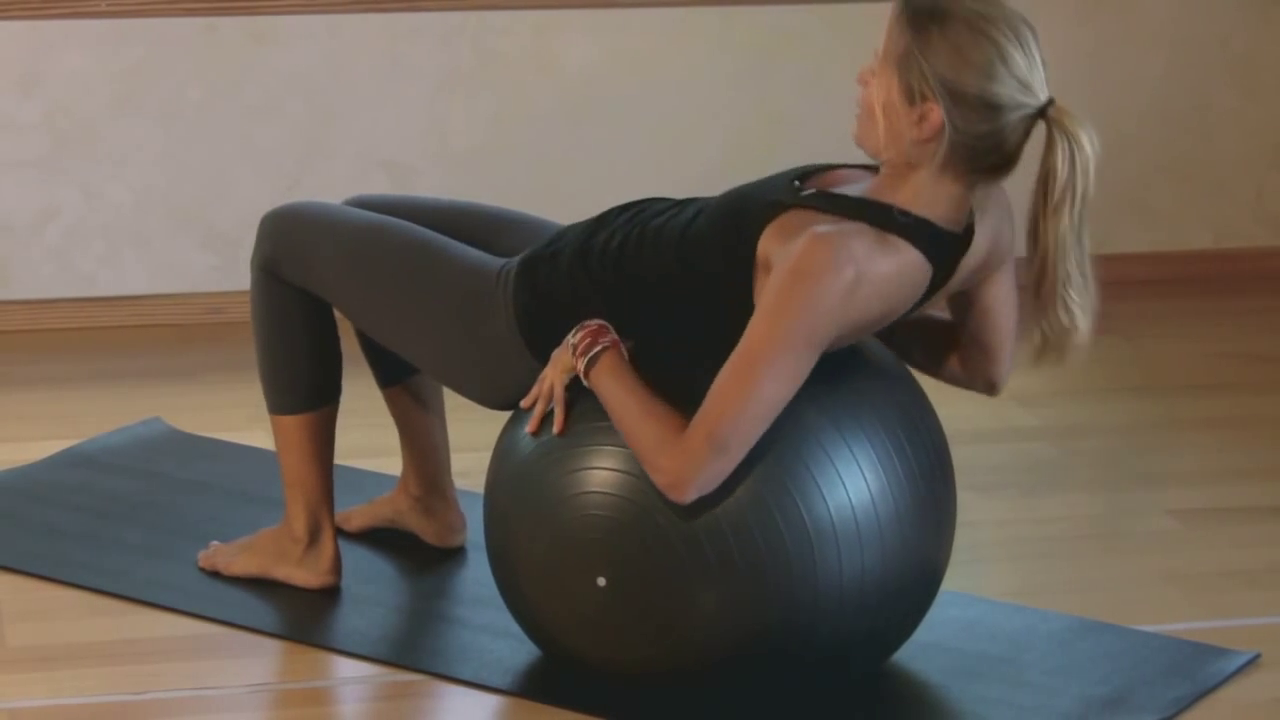yogaball: (483, 332, 972, 703)
